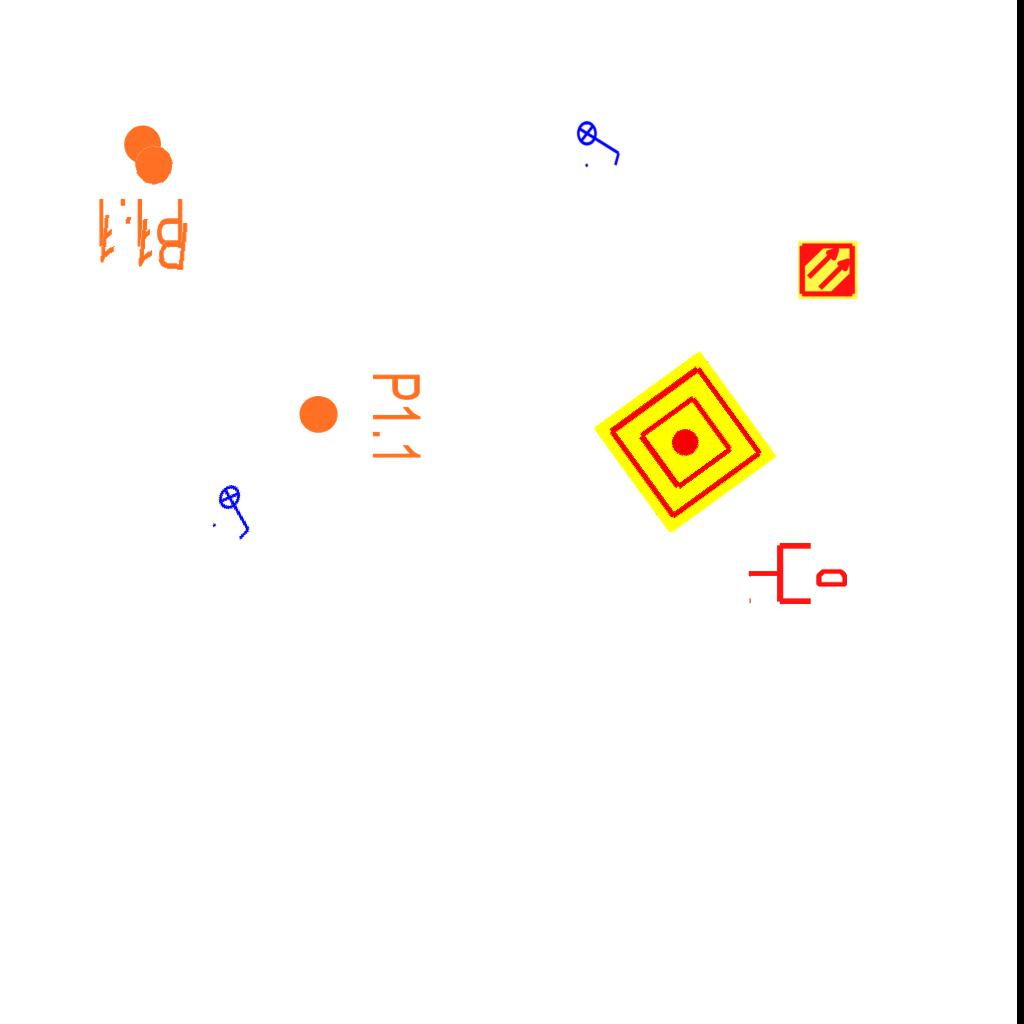ASR_Ansaugrauchmelder: (797, 239, 859, 301)
Ausschalter_beleuchtet: (202, 475, 272, 547), (576, 114, 624, 170)
Datenanschluss_einfach: (747, 539, 847, 608)
Downlight_LED_Einbauleuchten_Flur: (93, 137, 200, 275), (93, 122, 186, 250), (296, 371, 424, 464)
NAM-Nichtautomatischer_Melder: (592, 349, 778, 535)
